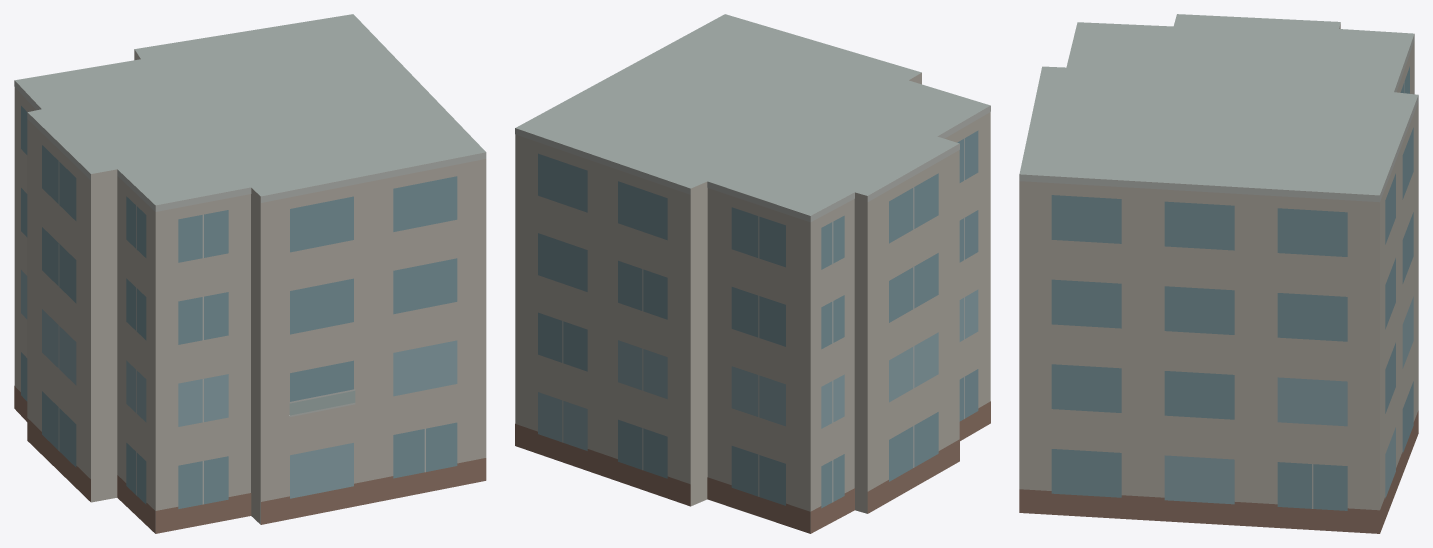
The model's file is survey-upis-32586027.glb.
3 renders of one model, left to right at view 1: azimuth 30°, elevation 25°; view 2: azimuth 150°, elevation 25°; view 3: azimuth 270°, elevation 25°, orthographic. The views are drawn at different scales.
Parts seen in each view (by area): view 1: survey-upis-32586027.tmp; view 2: survey-upis-32586027.tmp; view 3: survey-upis-32586027.tmp.
Boxes of the visible parts, x1=… form: survey-upis-32586027.tmp: x1=14, y1=14, x2=486, y2=533; survey-upis-32586027.tmp: x1=515, y1=14, x2=990, y2=533; survey-upis-32586027.tmp: x1=1019, y1=14, x2=1418, y2=533.
Size of the model in its own units: 14.03 by 12.2 by 13.05.
